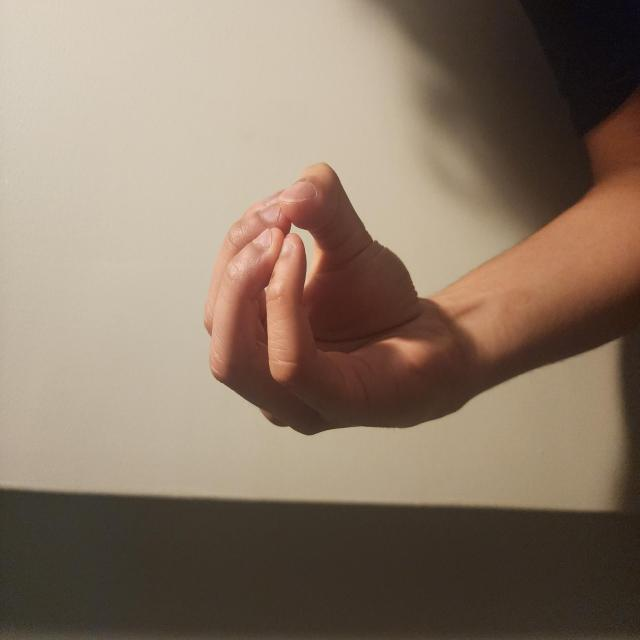O: (148, 260, 362, 630)
